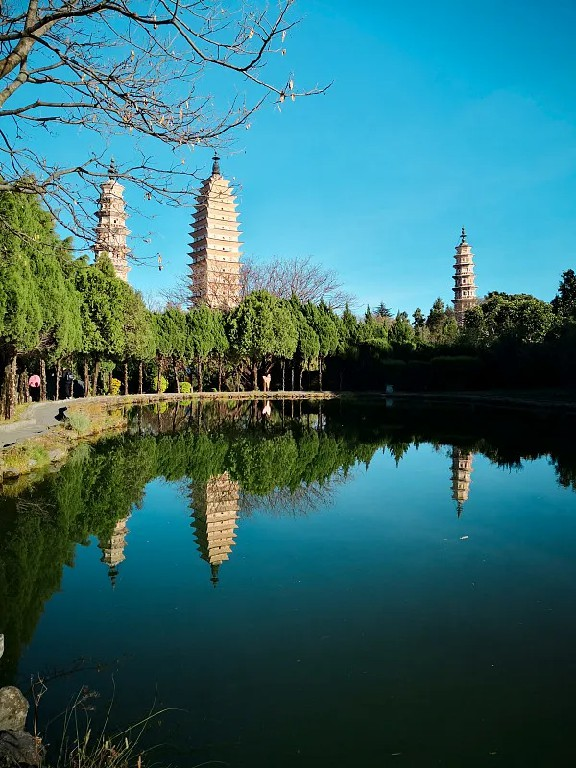ThreePagoda: (186, 152, 246, 312)
